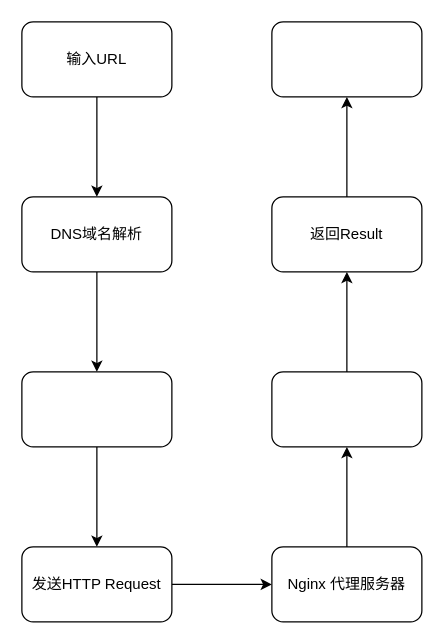
Some shapes in this 444 by 644 pixel diagram are drawn without their labels. The shapes that lost their labels are listed below. From the top down, each one's centre as x and y in pixels, then its label:
At point (346, 59): "关闭TCP".
At point (96, 409): "建立TCP连接".
At point (346, 409): "具体的EndPoint".
